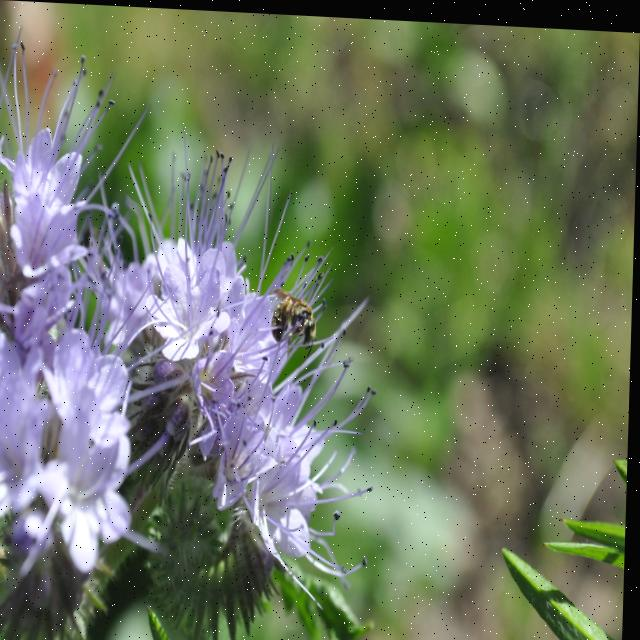Seladonia: (258, 275, 330, 369)
